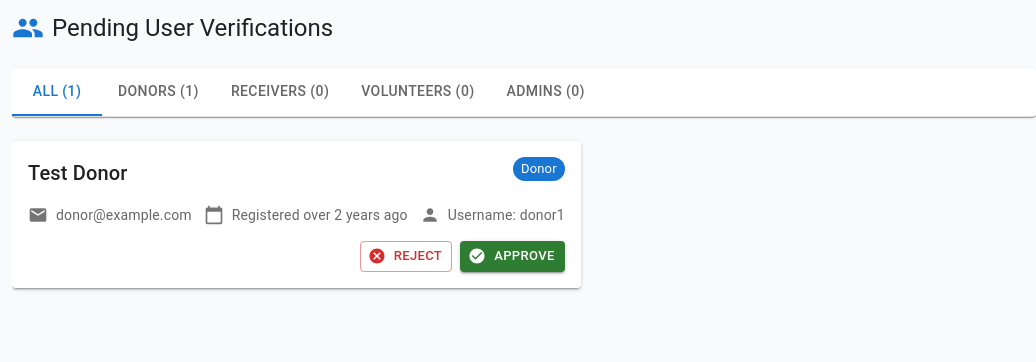
Scenario: UserVerificationList › should show empty state for filtered role with no users
expect the text "Test Donor" is shown: met, box left=28, top=157, right=128, bottom=189
Click on Receivers tab (no receivers in list)
Step 1. Click the tab "Receivers (0)" → (280, 92), box left=215, top=68, right=345, bottom=116
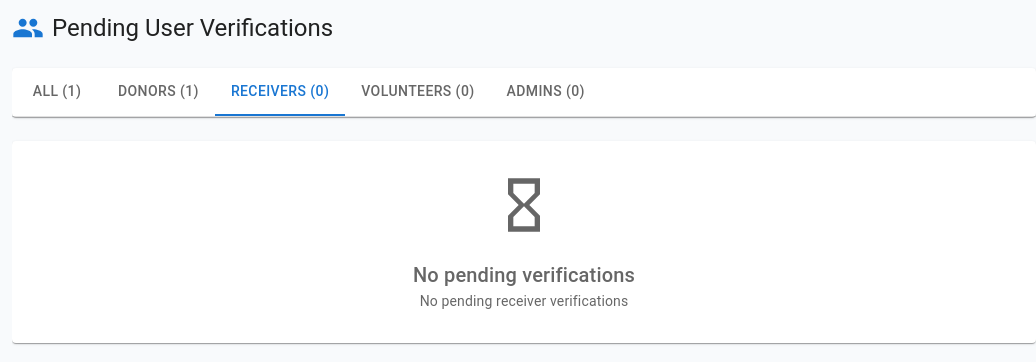
expect the heading "No pending verifications" is shown: met, box left=413, top=263, right=635, bottom=287
expect the text "No pending receiver verifications" is shown: met, box left=420, top=293, right=628, bottom=309
